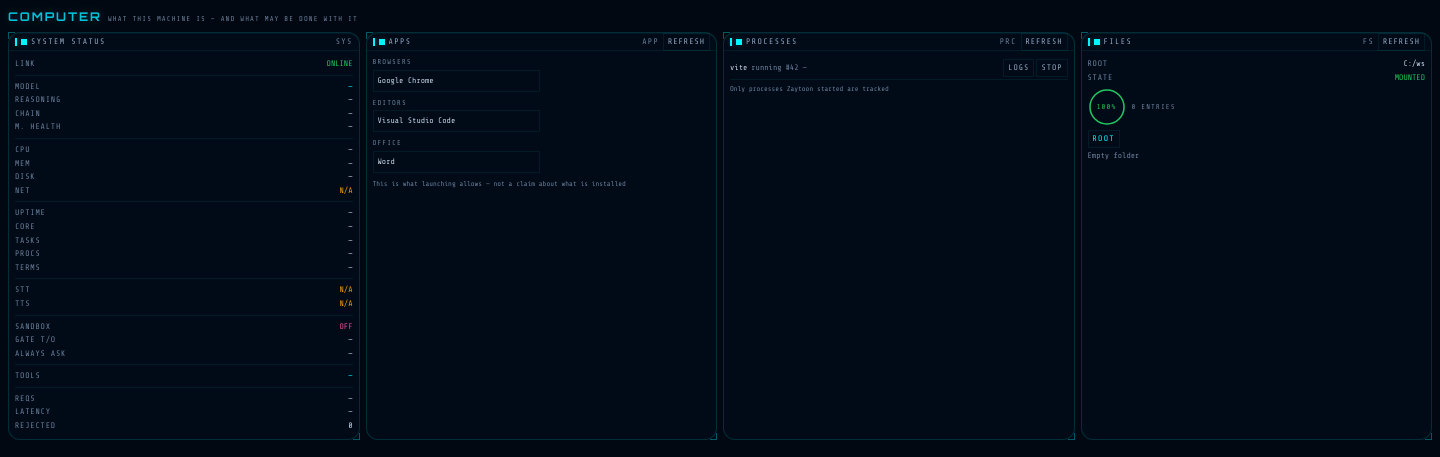
it: ComputerView › reports missing output as a report, not as a broken panel
Step 1. Click the button "LOGS" → x=1019, y=68, box [1003,59,1034,77]
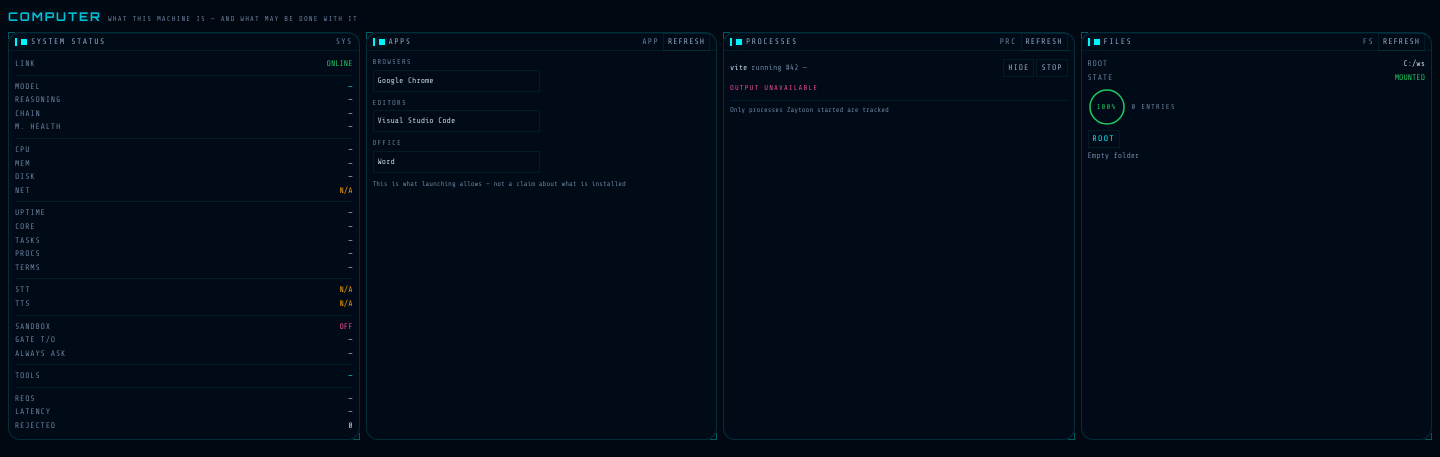
Check: the button "STOP" is shown, box [1036,59,1068,77]
Check: the text "Output unavailable" is shown, box [730,84,818,92]
